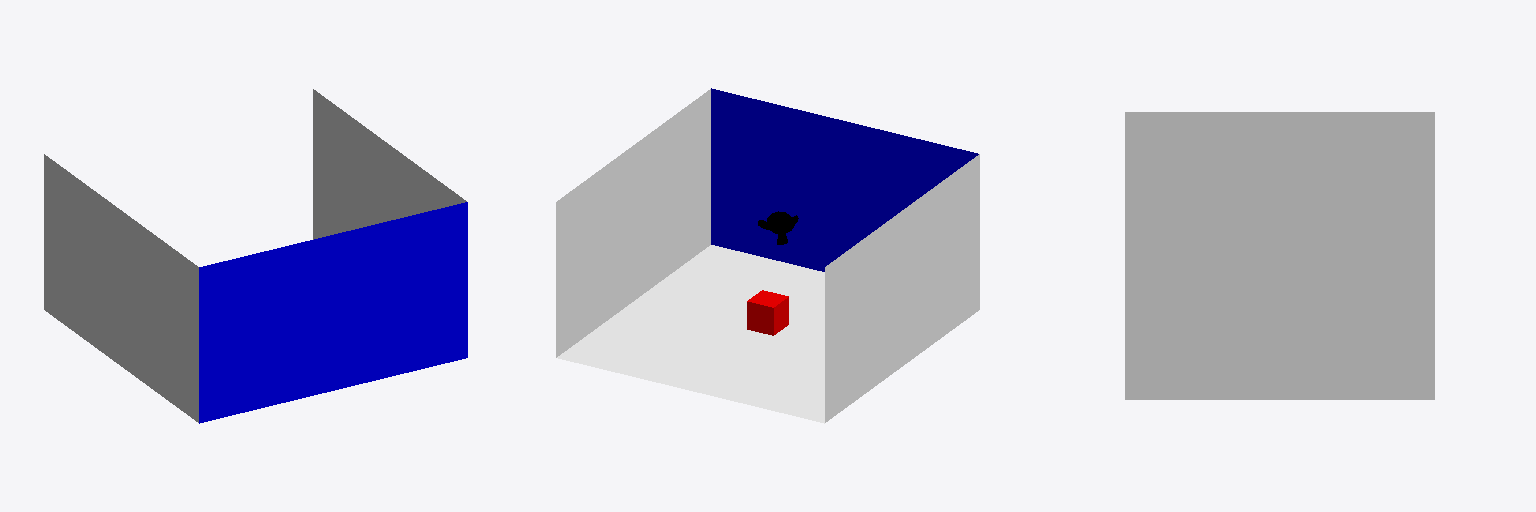
File: complex.obj
3 renders of one model, left to right at view 1: azimuth 30°, elevation 25°; view 2: azimuth 150°, elevation 25°; view 3: azimuth 270°, elevation 25°, orthographic.
Visible parts, largest first — view 1: Plane; view 2: Plane, Cube_Cube.001, Suzanne; view 3: Plane.
Part boxes in pixels (bbox=[...]): Plane: bbox=[44, 89, 467, 423]; Plane: bbox=[556, 88, 979, 423]; Cube_Cube.001: bbox=[747, 290, 788, 335]; Suzanne: bbox=[758, 211, 798, 244]; Plane: bbox=[1125, 112, 1434, 399].
Bounding box in the file's own units: 20 × 11.12 × 20.